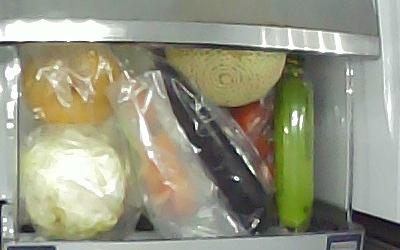cabbage_vinyl: (19, 129, 125, 240)
carrot_vinyl: (125, 75, 199, 218)
eggplant_vinyl: (152, 59, 280, 234)
melon: (163, 45, 287, 107)
pear_vinyl: (20, 44, 122, 125)
tomato_vinyl: (229, 100, 277, 157)
zucchini: (274, 74, 315, 231)
